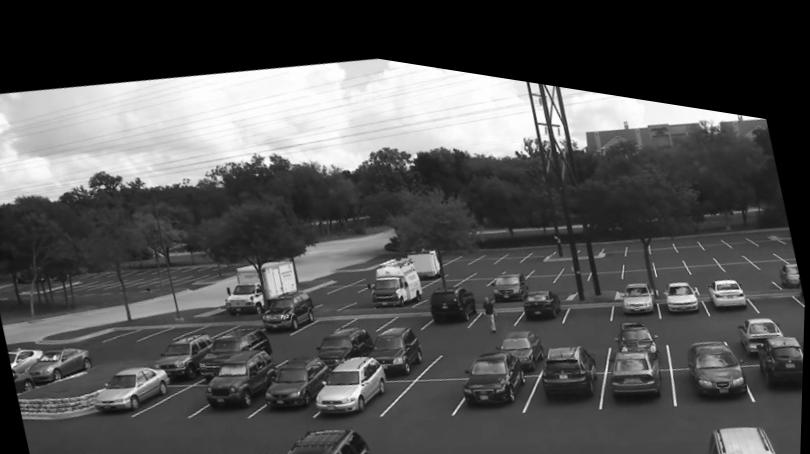empty: (381, 361, 464, 402), (139, 376, 210, 414), (748, 265, 806, 287), (434, 329, 479, 357), (669, 300, 720, 324), (561, 282, 613, 305), (108, 321, 173, 338), (344, 301, 396, 320), (296, 306, 350, 324), (474, 293, 521, 312), (563, 313, 605, 333), (270, 332, 311, 352), (145, 321, 198, 336), (737, 248, 776, 266), (654, 243, 692, 260), (387, 297, 430, 312), (333, 266, 376, 281), (686, 239, 724, 255), (720, 235, 758, 249), (682, 229, 717, 244), (624, 246, 657, 261), (588, 250, 626, 263), (193, 317, 237, 328), (552, 254, 591, 266), (746, 209, 784, 221), (525, 229, 555, 244), (751, 232, 788, 244), (563, 243, 597, 256), (624, 222, 652, 237), (456, 263, 493, 273), (425, 264, 462, 274), (649, 219, 677, 232), (652, 234, 685, 245), (532, 244, 565, 255), (725, 212, 752, 225), (466, 273, 493, 286), (593, 239, 622, 251), (698, 248, 727, 260), (713, 227, 744, 238), (742, 223, 776, 233), (498, 235, 526, 247), (622, 238, 655, 248), (601, 224, 628, 236), (505, 246, 536, 256), (548, 268, 571, 281), (472, 250, 505, 259), (443, 252, 476, 261), (676, 218, 699, 230), (448, 240, 477, 249), (701, 217, 727, 227), (474, 238, 500, 248), (527, 256, 559, 264)
occupied: (699, 400, 794, 454), (318, 343, 398, 403), (207, 341, 279, 401), (263, 346, 335, 400), (465, 334, 531, 390), (288, 416, 385, 454), (685, 315, 747, 374), (541, 324, 602, 383), (97, 362, 172, 409), (752, 307, 805, 365), (257, 281, 316, 327), (317, 314, 379, 357), (372, 245, 424, 295), (28, 345, 92, 385), (612, 328, 662, 378), (372, 314, 425, 361), (159, 327, 212, 372), (430, 273, 480, 318), (205, 320, 271, 354), (501, 313, 545, 355), (738, 293, 784, 325), (708, 254, 748, 288), (526, 272, 563, 305), (606, 435, 670, 454), (490, 256, 529, 285), (622, 262, 655, 293), (666, 260, 700, 290), (622, 301, 655, 330), (15, 371, 38, 393)
